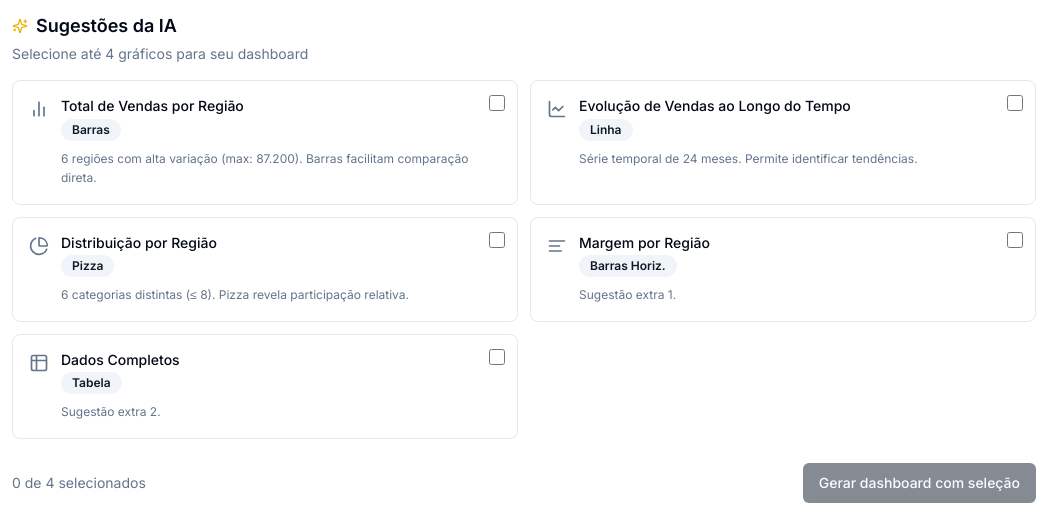
Scenario: ChartSuggestionSelector › T-C04: máximo de 4 seleções — 5º checkbox fica disabled
Click the element with test id "suggestion-card-0".
click(265, 142)  # box [12, 80, 518, 204]
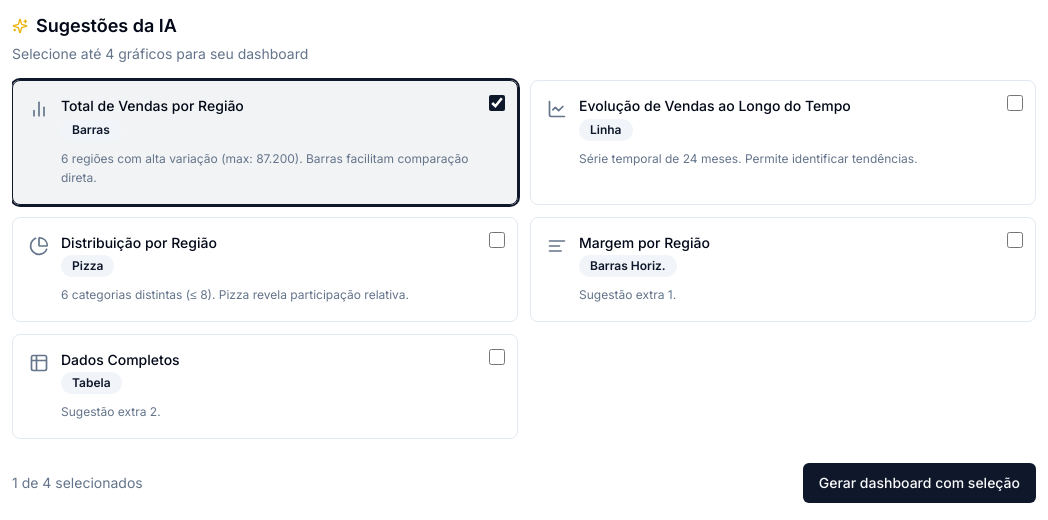
Click the element with test id "suggestion-card-1".
click(783, 142)  # box [530, 80, 1036, 204]
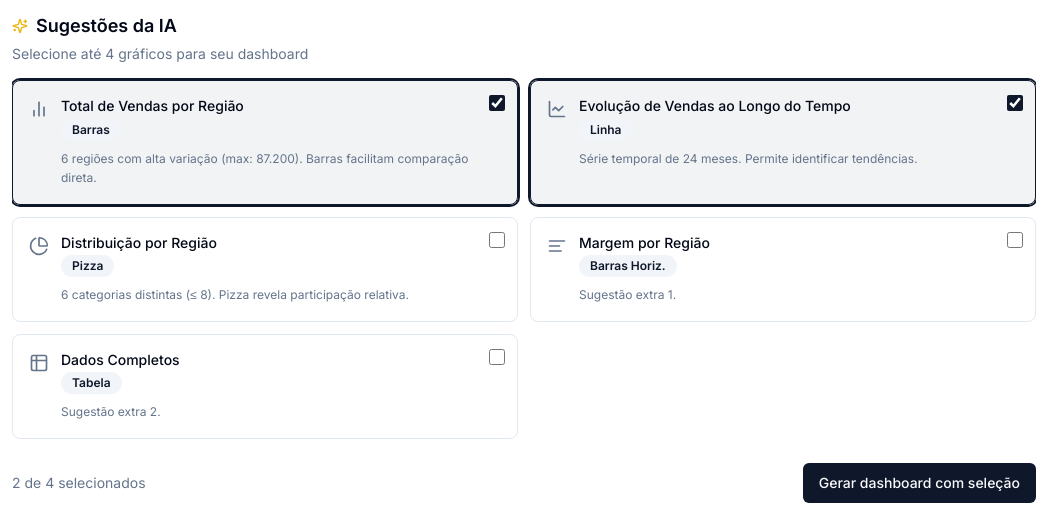
Click the element with test id "suggestion-card-2".
click(265, 269)  # box [12, 216, 518, 322]
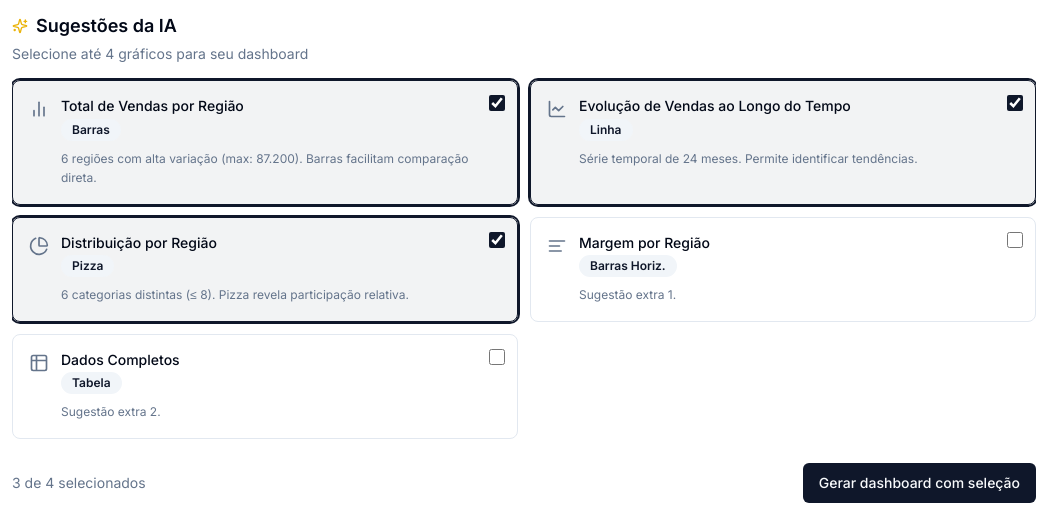
Click the element with test id "suggestion-card-3".
click(783, 269)  # box [530, 216, 1036, 322]
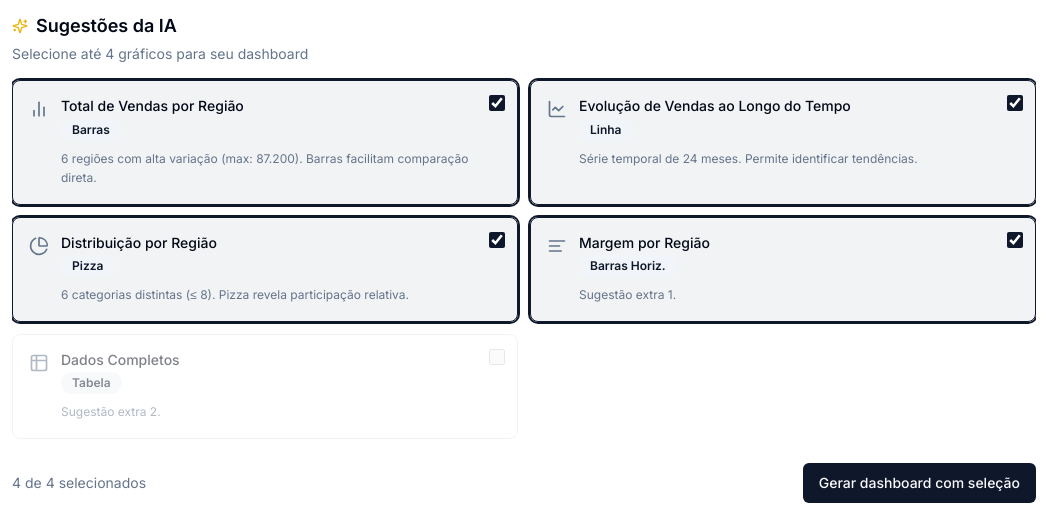
Expected: the button "Gerar dashboard com seleção" is enabled, [803, 462, 1036, 502]
Expected: the text "4 de 4 selecionados" is shown, [12, 472, 146, 492]
